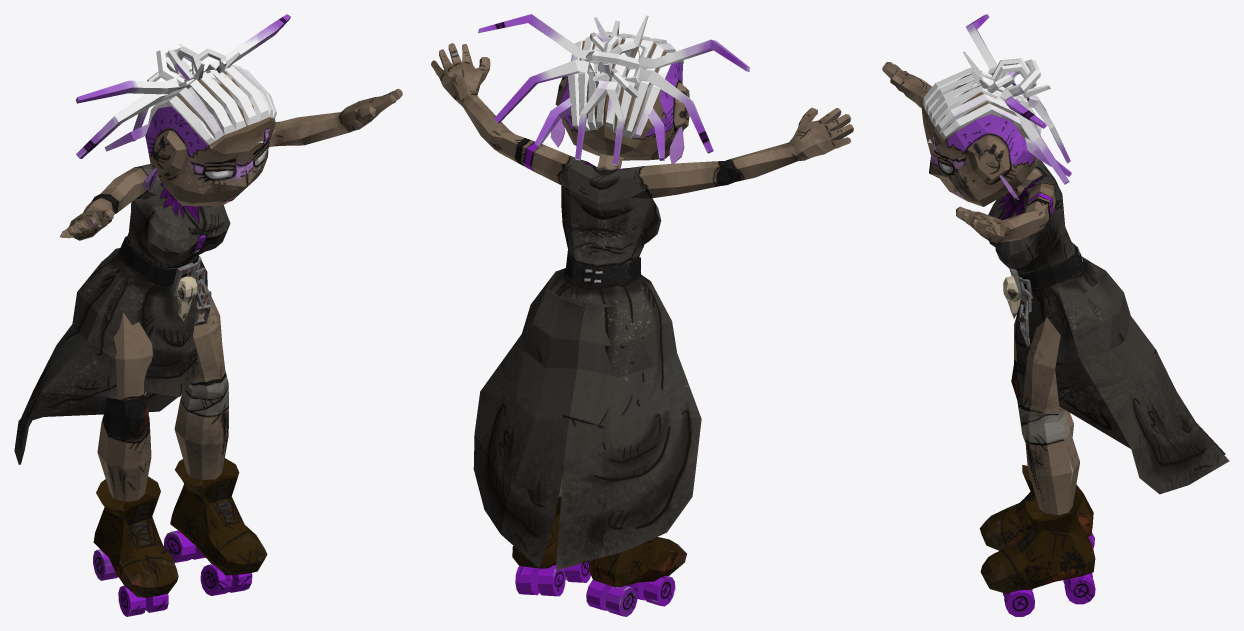
Rendered from bruja_000134.obj.
The picture shows the model from 3 angles, left to right: view 1: azimuth 30°, elevation 25°; view 2: azimuth 150°, elevation 25°; view 3: azimuth 270°, elevation 25°; orthographic projection. The views are drawn at different scales.
Parts seen in each view (by area): view 1: Bruja_Plane.001; view 2: Bruja_Plane.001; view 3: Bruja_Plane.001.
Part boxes in pixels (x1,y1,x2,y2): Bruja_Plane.001: [14, 14, 402, 616]; Bruja_Plane.001: [431, 14, 853, 616]; Bruja_Plane.001: [882, 14, 1229, 616].
Size of the model in its own units: 11.41 by 16.18 by 9.54.
